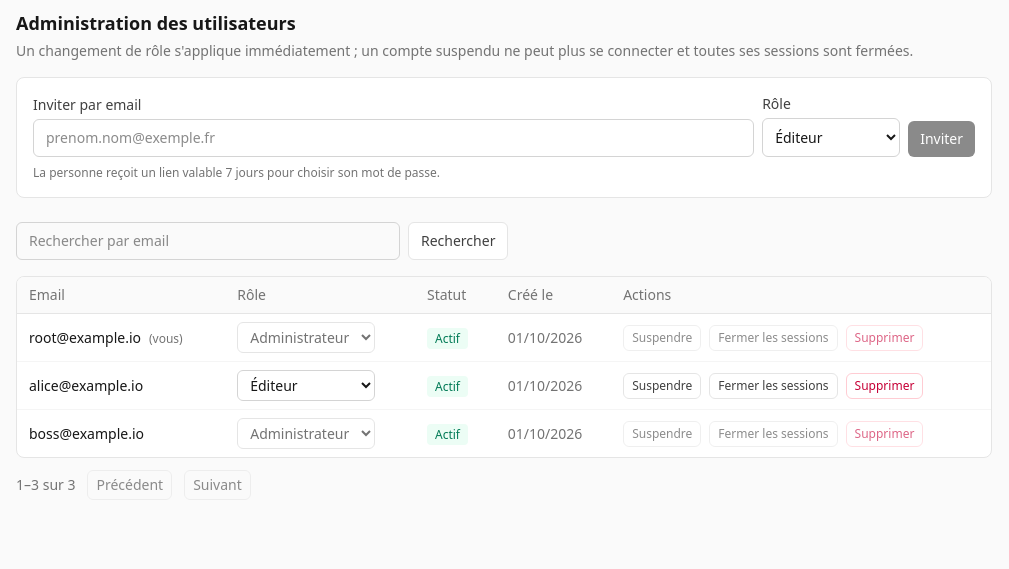
it: <AdminPanel /> › invite une personne avec un rôle puis recharge la liste (#241)
This screenshot has width=1009, height=569.
Check: the row that starts with "alice@example.io" is shown, box left=17, top=362, right=991, bottom=410
Check: the dropdown labelled "Rôle" shows "Éditeur", box left=762, top=118, right=900, bottom=157
Type "ivy@example.io" into the field labelled "Inviter par email". click: [394, 138]
box: left=33, top=119, right=754, bottom=157
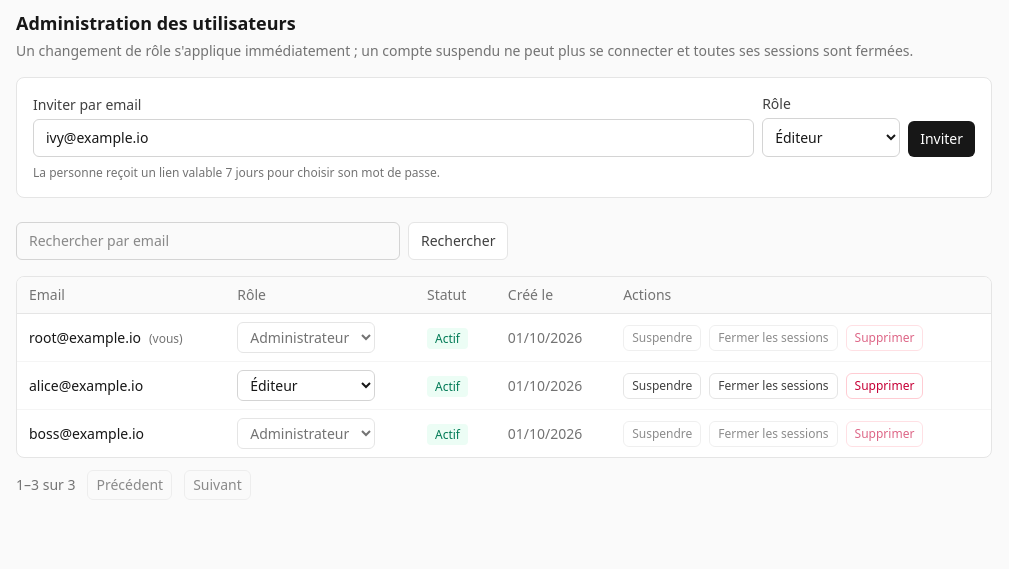
Select "Lecteur" in the dropdown labelled "Rôle". click: [831, 138]
box: left=762, top=118, right=900, bottom=157
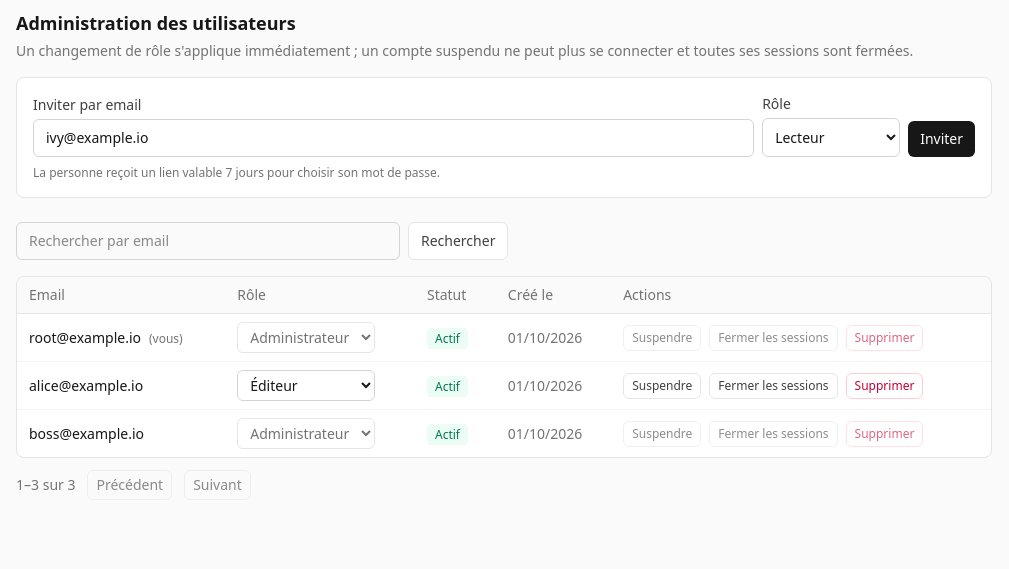
Click the button "Inviter". click: [942, 139]
box: left=908, top=121, right=975, bottom=157
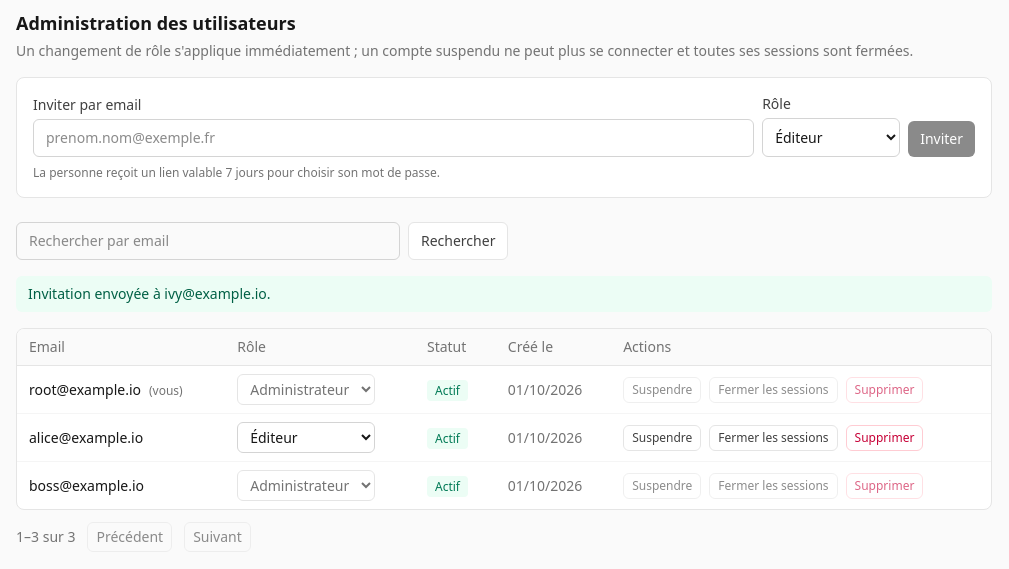
Check: the message reads "Invitation envoyée à ivy@example.io.", box left=28, top=284, right=270, bottom=303
Check: the field labelled "Inviter par email" is empty, box left=33, top=119, right=754, bottom=157
